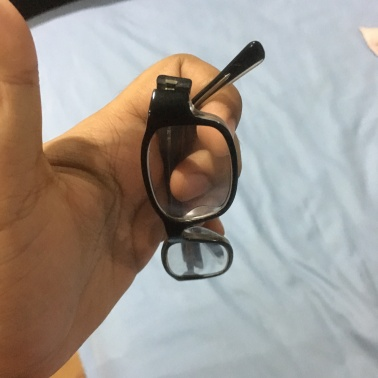glasses: (155, 75, 256, 299)
